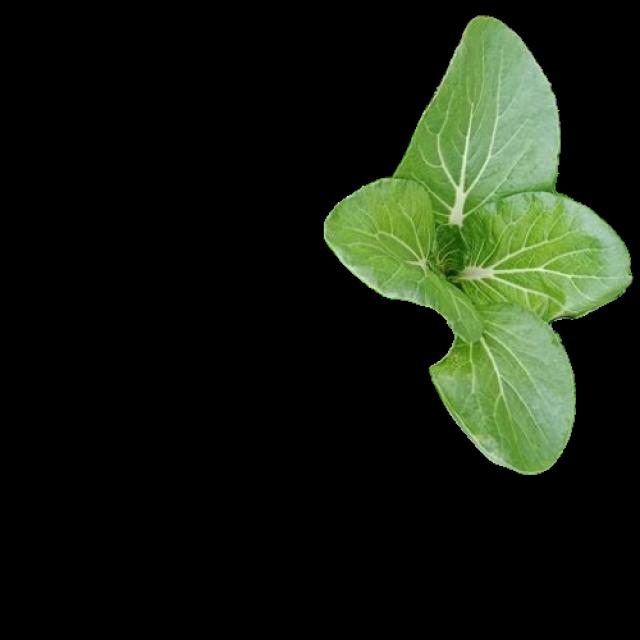healthy: (324, 13, 631, 470)
not-mature: (326, 15, 634, 472)
